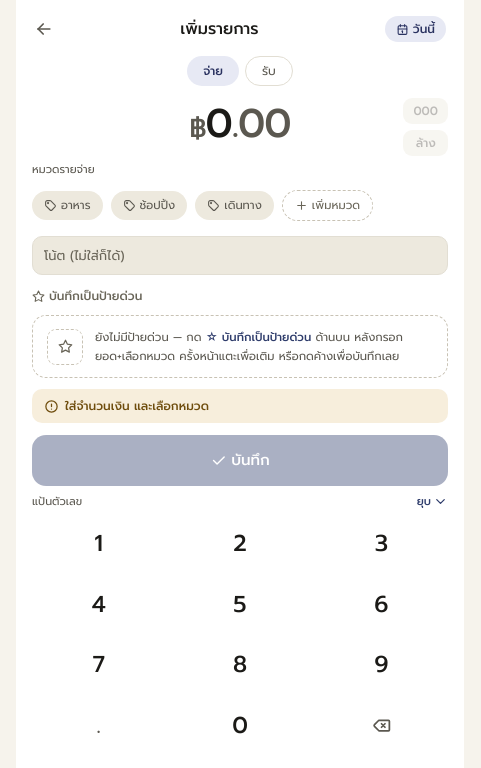
Scenario: AddPage — collapsible keypad (§1) › re-expands by tapping the amount (§ "แตะที่ตัวเลขยอดเพื่อกางกลับ")
Click the button named "ยุบแป้นตัวเลข".
click(432, 502)  # box x1=417 y1=494 x2=448 y2=510
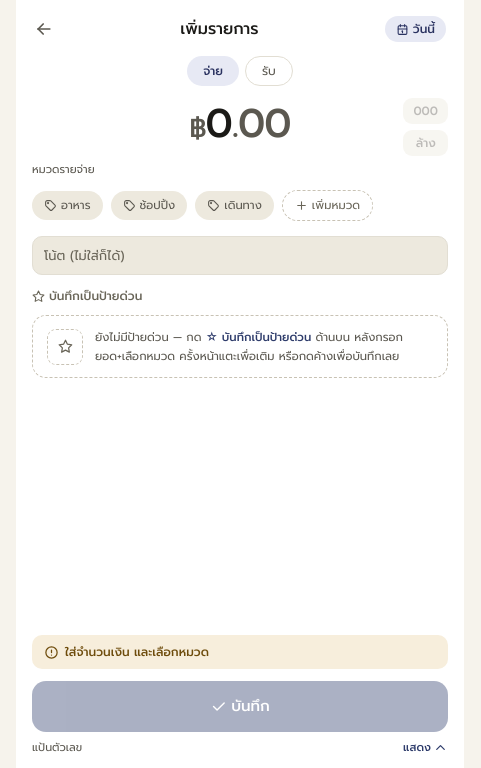
Now the button "1" is gone
Click the button named "ยอดเงิน — แตะเพื่อแสดงแป้นตัวเลข".
click(240, 124)  # box x1=189 y1=94 x2=291 y2=154
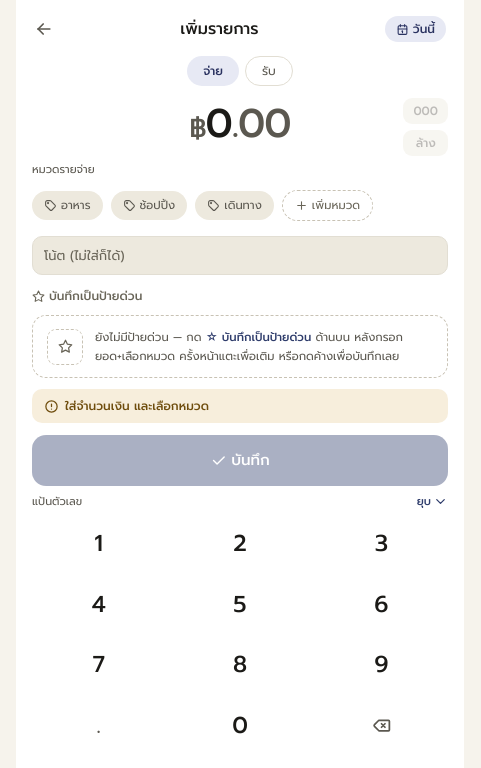
Now the button "1" is shown, box x1=28 y1=514 x2=169 y2=574
